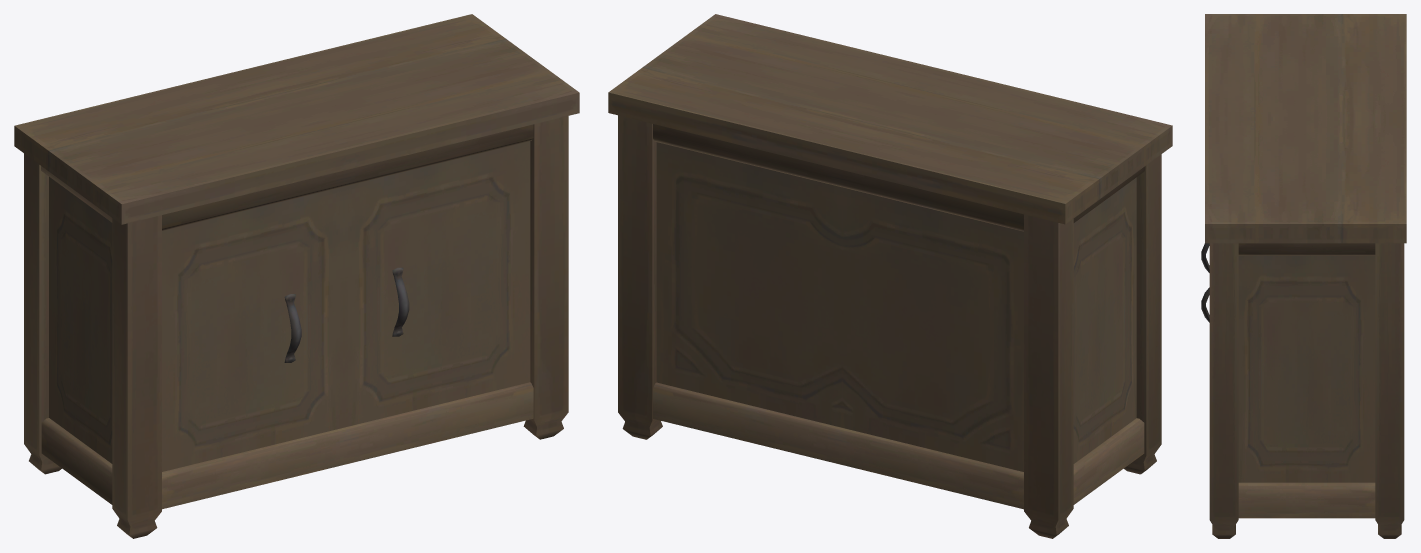
Rendered from Homeworld_Interior_Md_Cabinet_Cupboard_02_Vo.fbx.
The picture shows the model from 3 angles, left to right: view 1: azimuth 30°, elevation 25°; view 2: azimuth 150°, elevation 25°; view 3: azimuth 270°, elevation 25°; orthographic projection. The views are drawn at different scales.
Parts seen in each view (by area): view 1: Indoor_MdProps_AngelShare01_Chest01_Vo; view 2: Indoor_MdProps_AngelShare01_Chest01_Vo; view 3: Indoor_MdProps_AngelShare01_Chest01_Vo.
Boxes of the visible parts, <box> form: Indoor_MdProps_AngelShare01_Chest01_Vo: <box>14,14,579,538</box>; Indoor_MdProps_AngelShare01_Chest01_Vo: <box>608,14,1172,538</box>; Indoor_MdProps_AngelShare01_Chest01_Vo: <box>1201,14,1406,538</box>.
Bounding box in the file's own units: 1.75 × 1.26 × 0.7226.
1 material, 1 textured.
